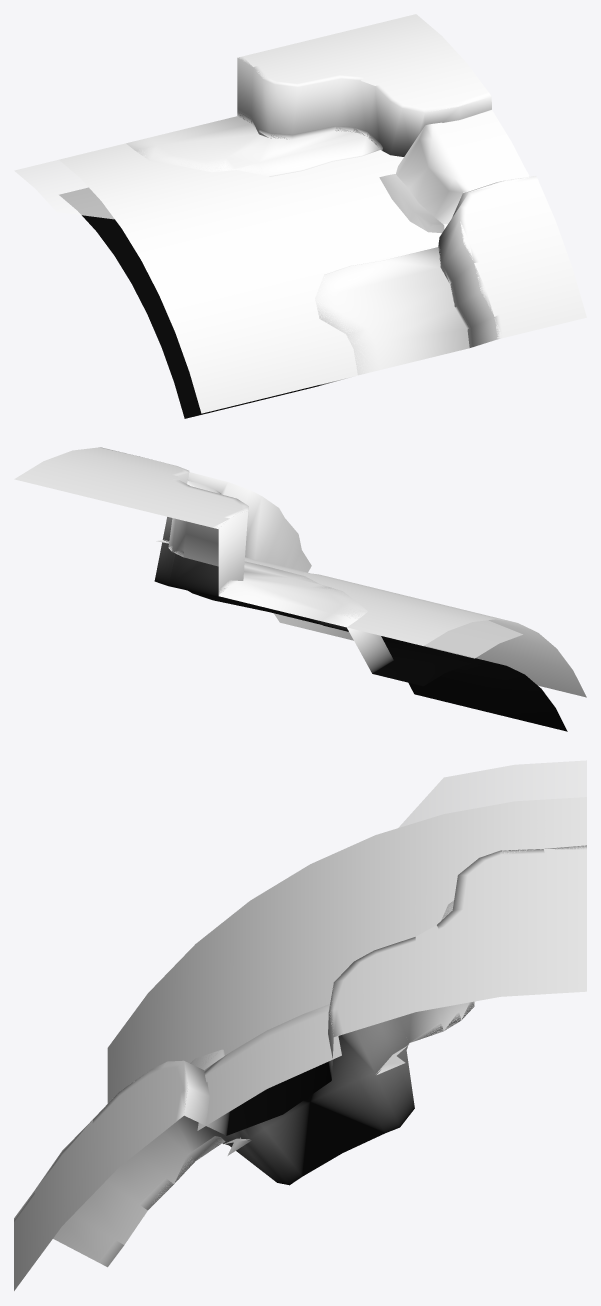
File: grd_Msw_w_R_0.dae
3 renders of one model, top to bottom at view 1: azimuth 30°, elevation 25°; view 2: azimuth 150°, elevation 25°; view 3: azimuth 270°, elevation 25°, orthographic. The views are drawn at different scales.
Visible parts, largest first — view 1: ocean_6_0, grass_5_0, beach_2_0, cliff_4_0, wave_9_0, beach_3_0, fall_0_0, river1_7_0, river_edge_8_0, kemuri_mae_1_0; view 2: beach_3_0, ocean_6_0, cliff_4_0, grass_5_0, wave_9_0, beach_2_0; view 3: ocean_6_0, grass_5_0, cliff_4_0, wave_9_0, river1_7_0, fall_0_0, beach_2_0, river_edge_8_0.
Part boxes in pixels (x1=…): ocean_6_0: x1=59, y1=143, x2=447, y2=413; grass_5_0: x1=238, y1=14, x2=586, y2=338; beach_2_0: x1=148, y1=111, x2=469, y2=369; cliff_4_0: x1=237, y1=56, x2=538, y2=347; wave_9_0: x1=14, y1=144, x2=378, y2=377; beach_3_0: x1=60, y1=138, x2=380, y2=418; fall_0_0: x1=396, y1=122, x2=478, y2=224; river1_7_0: x1=443, y1=110, x2=528, y2=192; river_edge_8_0: x1=270, y1=109, x2=529, y2=274; kemuri_mae_1_0: x1=379, y1=174, x2=444, y2=233; beach_3_0: x1=168, y1=553, x2=567, y2=731; ocean_6_0: x1=164, y1=539, x2=586, y2=697; cliff_4_0: x1=98, y1=447, x2=311, y2=594; grass_5_0: x1=14, y1=447, x2=247, y2=528; wave_9_0: x1=296, y1=573, x2=533, y2=681; beach_2_0: x1=169, y1=545, x2=353, y2=640; ocean_6_0: x1=107, y1=797, x2=586, y2=1144; grass_5_0: x1=14, y1=845, x2=586, y2=1290; cliff_4_0: x1=14, y1=845, x2=586, y2=1262; wave_9_0: x1=166, y1=760, x2=586, y2=1064; river1_7_0: x1=198, y1=1019, x2=341, y2=1130; fall_0_0: x1=204, y1=1004, x2=405, y2=1155; beach_2_0: x1=98, y1=1001, x2=474, y2=1267; river_edge_8_0: x1=197, y1=1018, x2=409, y2=1143.
Bounding box in the file's own units: 576 × 308 × 423.
10 materials, 1 textured.
